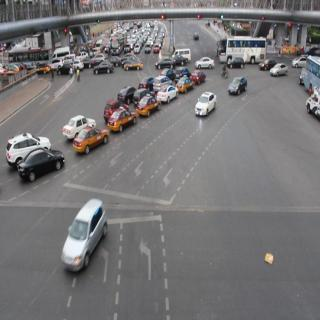BigCar: (216, 35, 265, 64)
Car: (61, 198, 107, 272), (6, 128, 52, 162), (19, 152, 67, 179), (74, 127, 110, 153), (106, 110, 138, 135), (62, 114, 96, 136), (137, 91, 160, 119), (196, 92, 216, 120), (157, 81, 177, 104), (227, 76, 247, 96), (194, 52, 214, 71), (93, 62, 115, 76), (178, 74, 194, 92), (268, 63, 286, 78), (124, 58, 143, 72), (293, 52, 307, 69), (193, 67, 205, 86), (155, 56, 173, 68), (58, 65, 74, 78), (259, 56, 270, 72), (230, 59, 244, 71), (144, 44, 152, 56), (133, 44, 141, 53), (153, 44, 159, 52)
